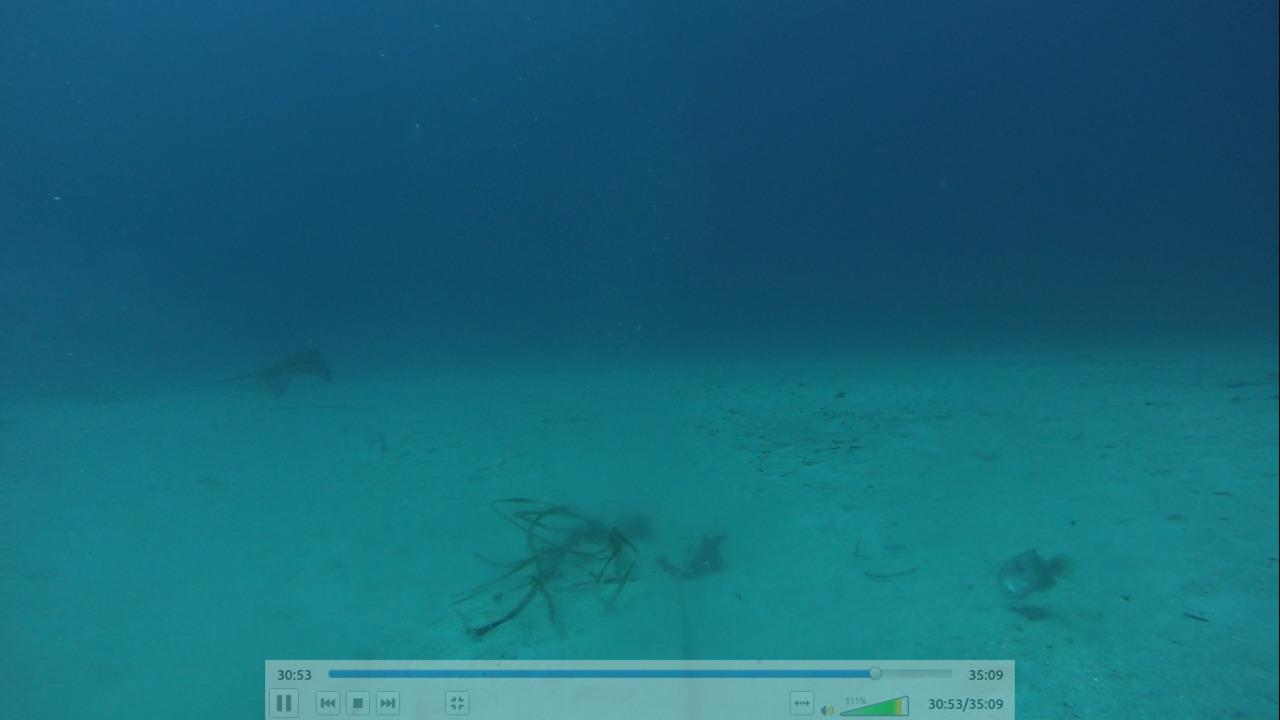myliobatis: (200, 343, 341, 407)
raor: (985, 543, 1078, 605)
